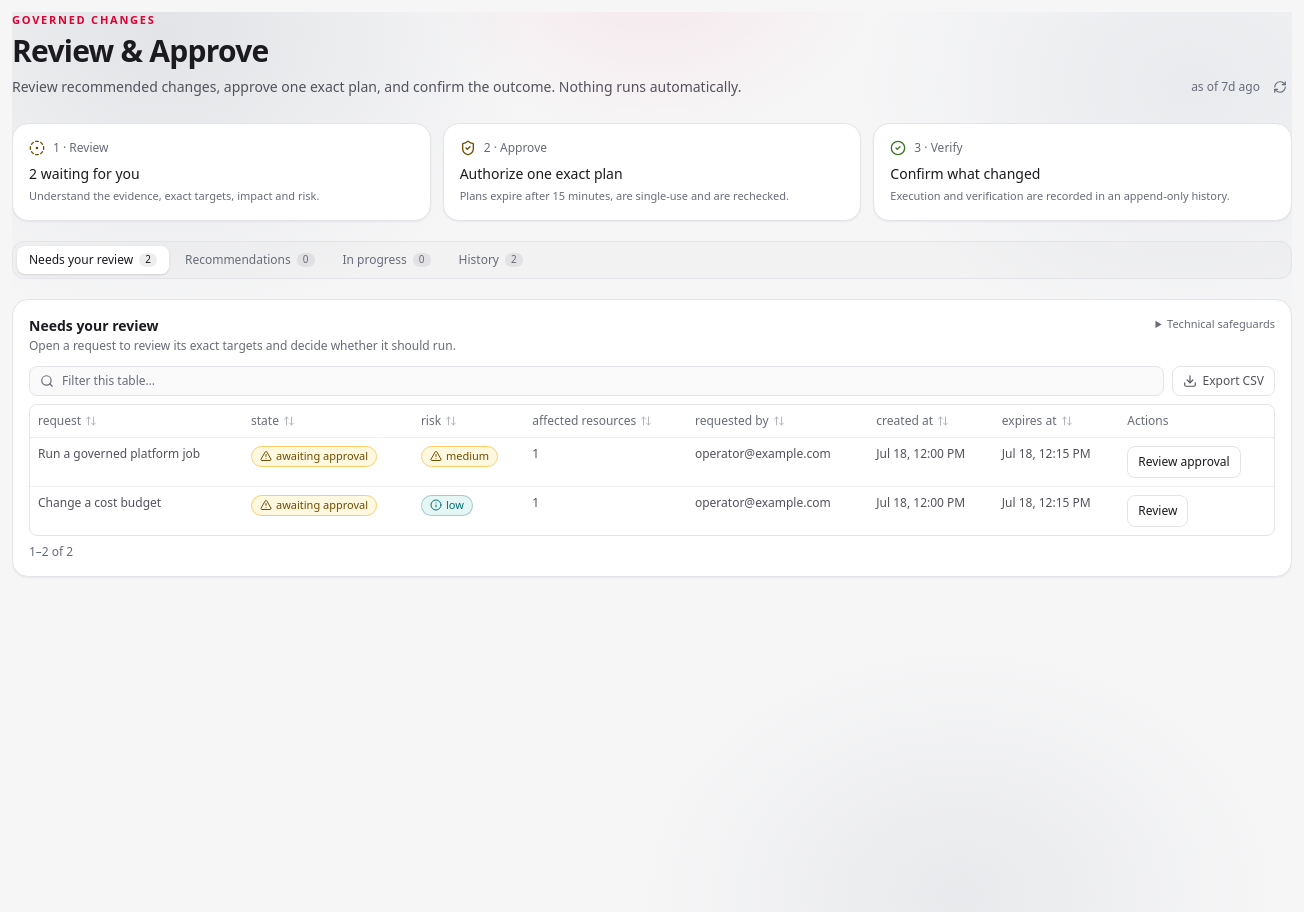
tabs use effective status and expose approval readiness
The image size is (1304, 912).
Click the tab "Needs your review 2" at (93, 260), box x1=17 y1=246 x2=169 y2=274
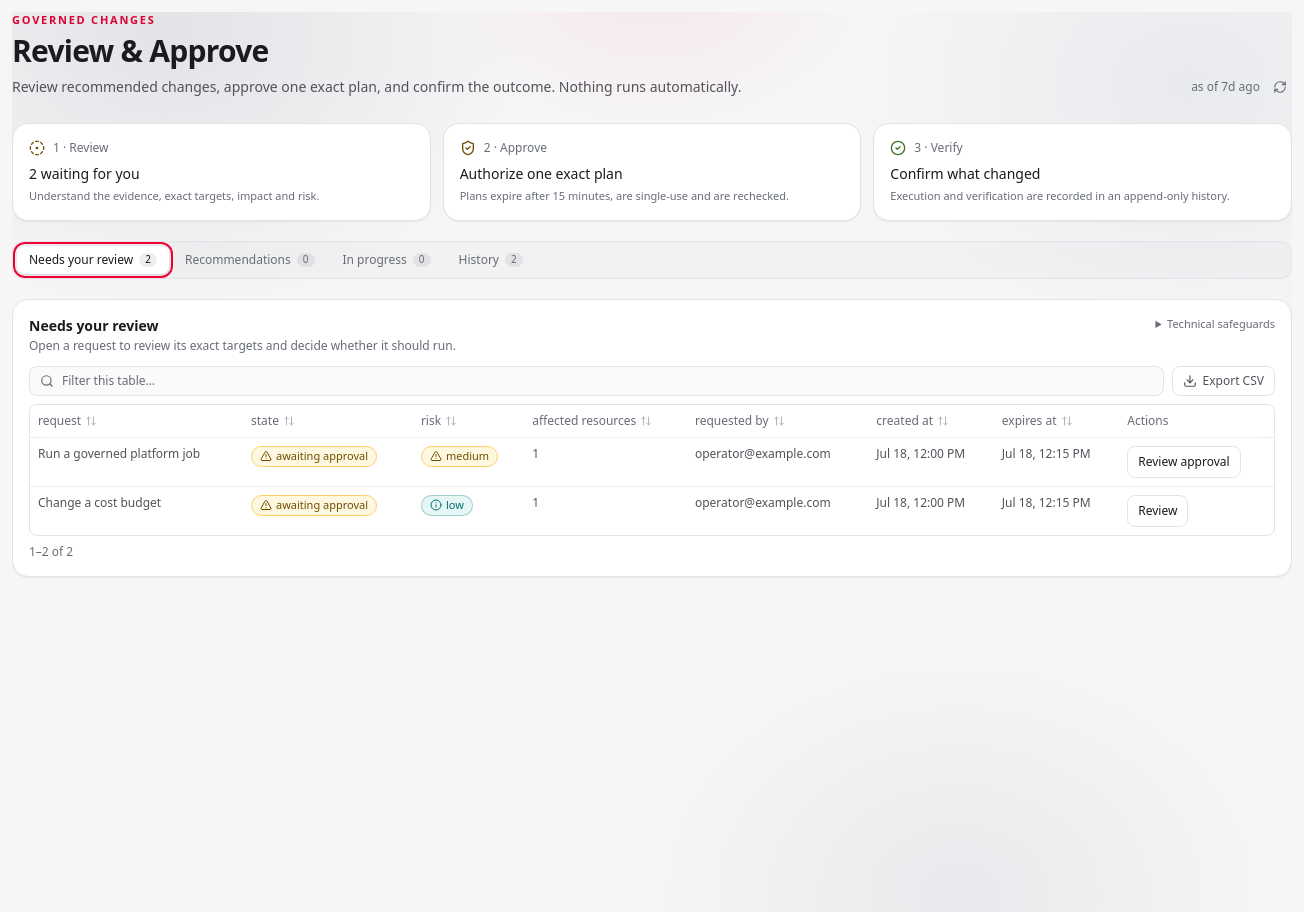
Expected: the text "awaiting approval" is shown 2 times, x1=251 y1=446 x2=377 y2=467; x1=251 y1=495 x2=377 y2=516
Expected: the button with aria-label "Review approval Run a governed platform job" is shown, x1=1127 y1=446 x2=1241 y2=478
Click the tab "History 2" at (491, 260), box x1=447 y1=246 x2=535 y2=274
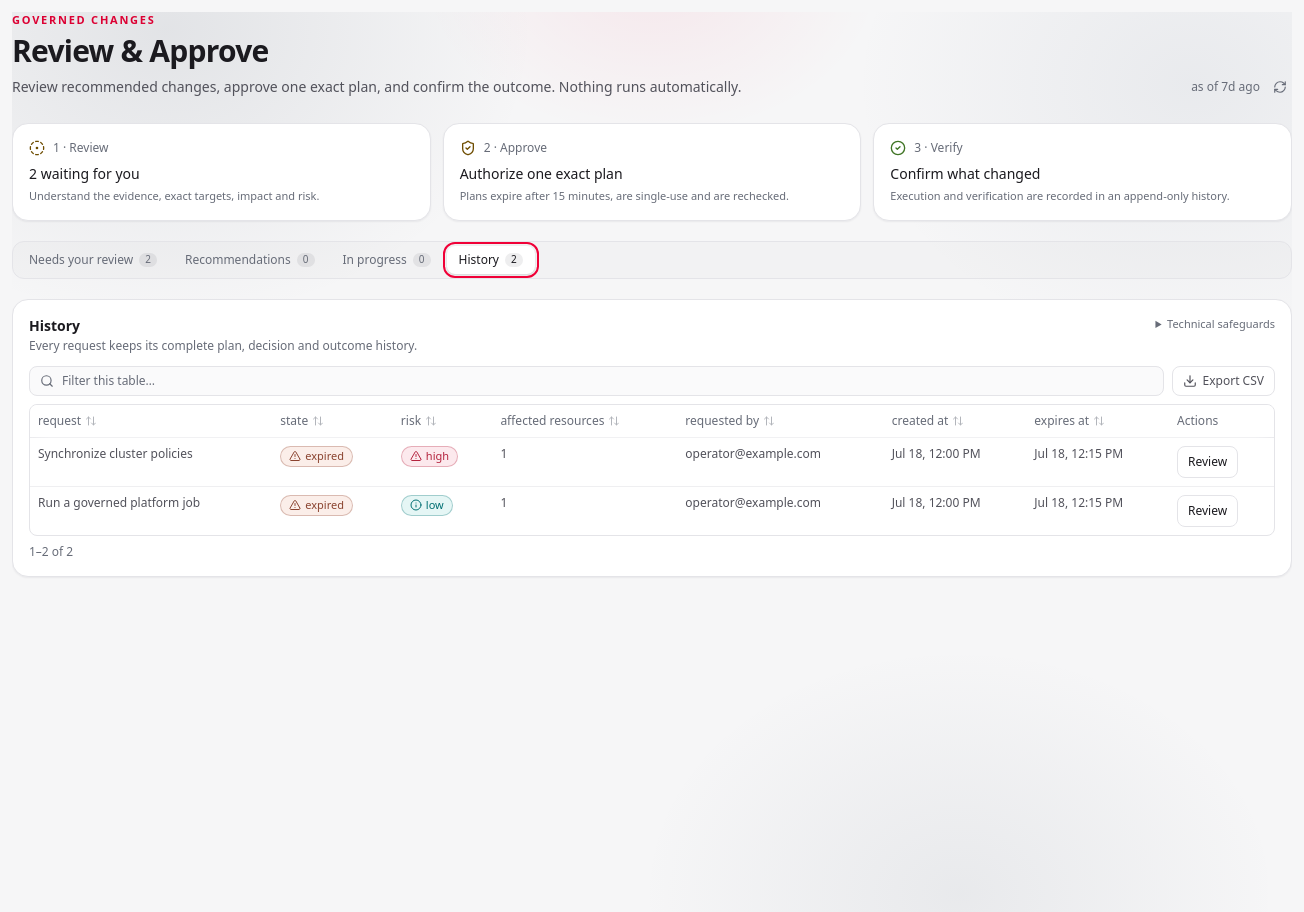
Expected: the text "expired" is shown 2 times, x1=280 y1=446 x2=353 y2=467; x1=280 y1=495 x2=353 y2=516
Expected: the text "awaiting approval" is gone
Expected: the button with aria-label "Review action Synchronize cluster policies" is shown, x1=1177 y1=446 x2=1238 y2=478
